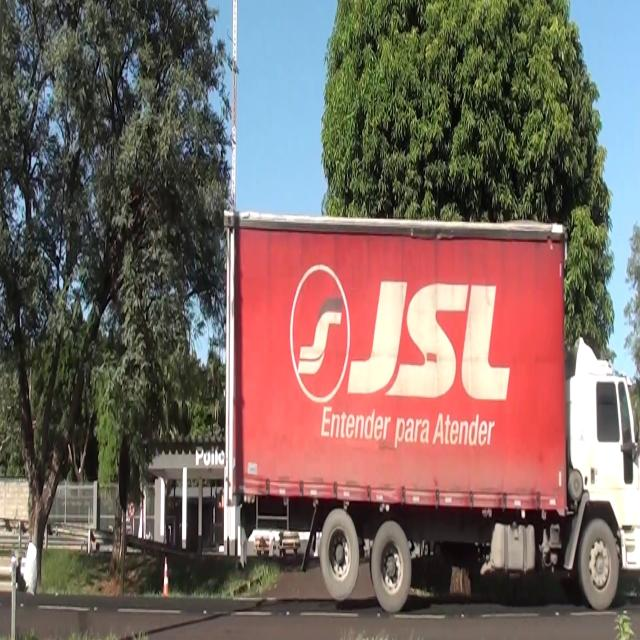-axle: (371, 518, 412, 614), (321, 512, 361, 599), (580, 520, 620, 607)
